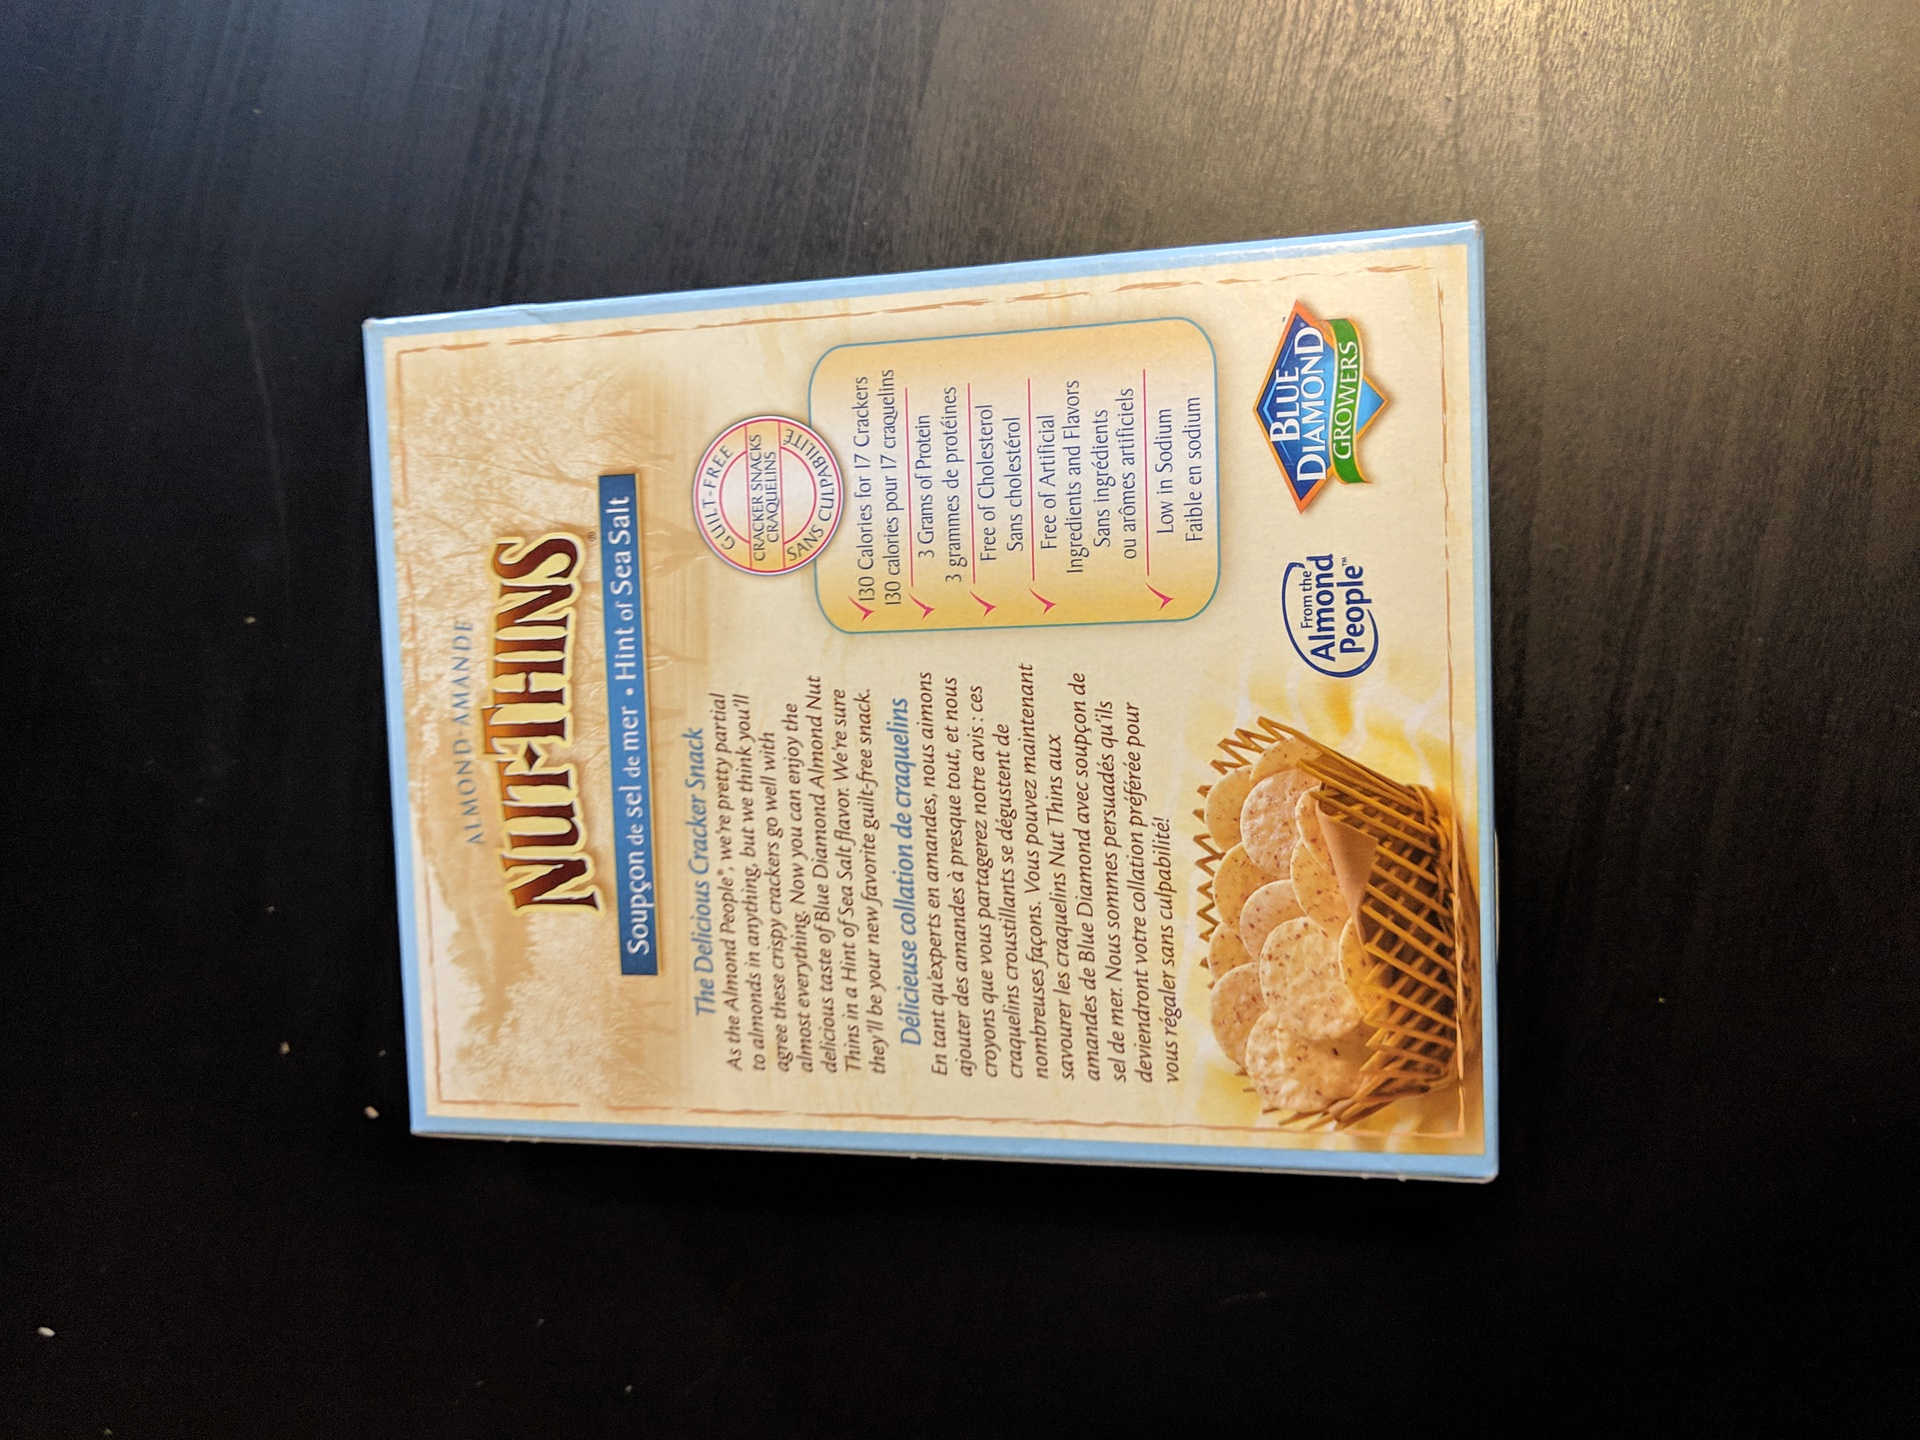blue_diamond_nut_thins_almond_seasalt: (363, 278, 1503, 1178)
